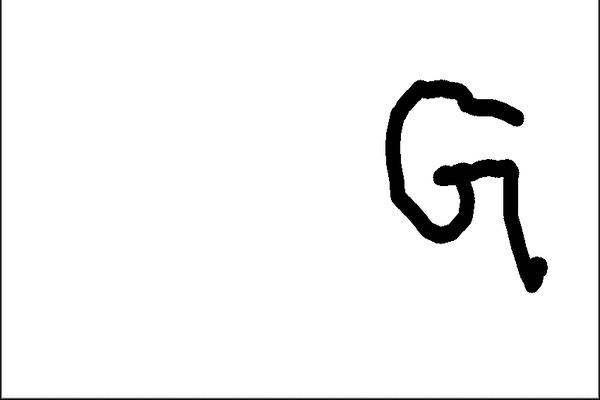G: (385, 75, 556, 298)
